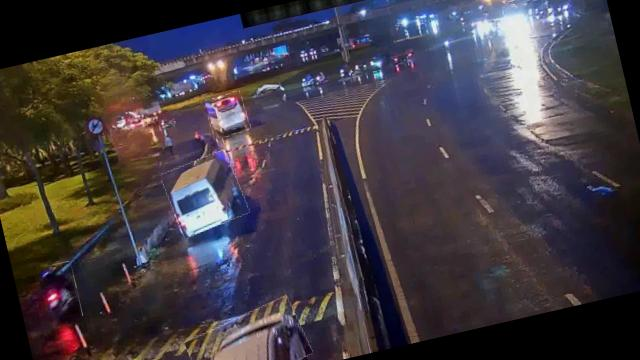Bike: (41, 261, 82, 323)
Bus: (160, 150, 249, 238), (204, 91, 250, 139)
Car: (182, 298, 313, 360)
